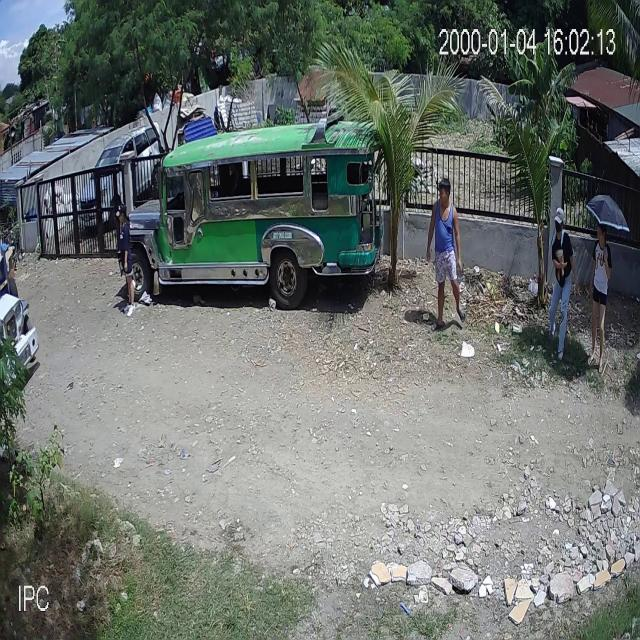standing: (108, 204, 137, 317)
walking: (430, 175, 465, 338), (545, 210, 573, 362), (587, 235, 613, 375)
